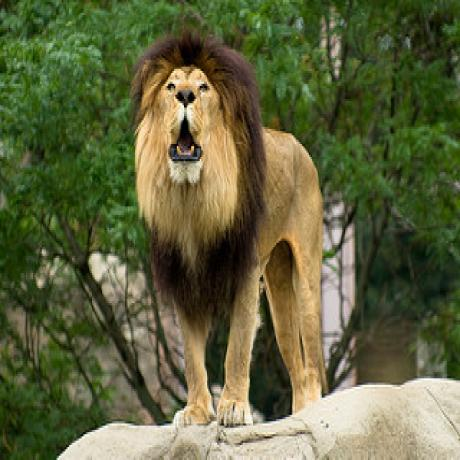Lion: (133, 27, 326, 429)
